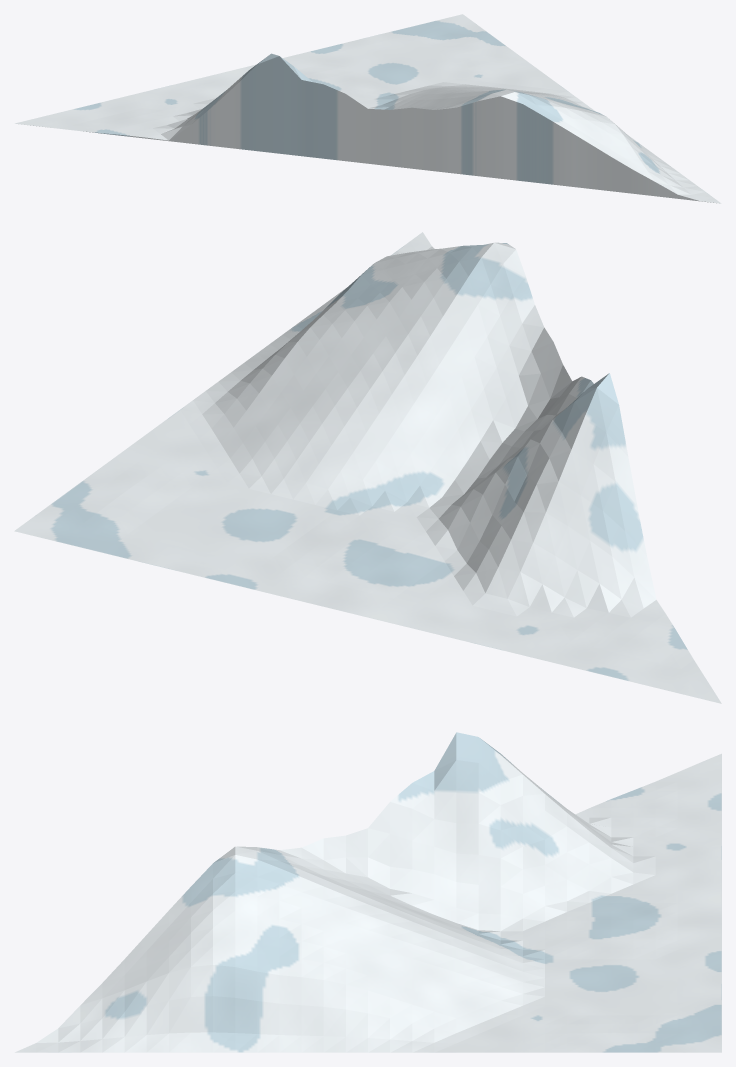
Rendered from Snow_Mountains_05_SE.obj.
The picture shows the model from 3 angles, top to bottom: view 1: azimuth 30°, elevation 25°; view 2: azimuth 150°, elevation 25°; view 3: azimuth 270°, elevation 25°; orthographic projection. The views are drawn at different scales.
Bounding box in the file's own units: 10 × 2.08 × 10.
Materials: 1 (1 with a texture image).
